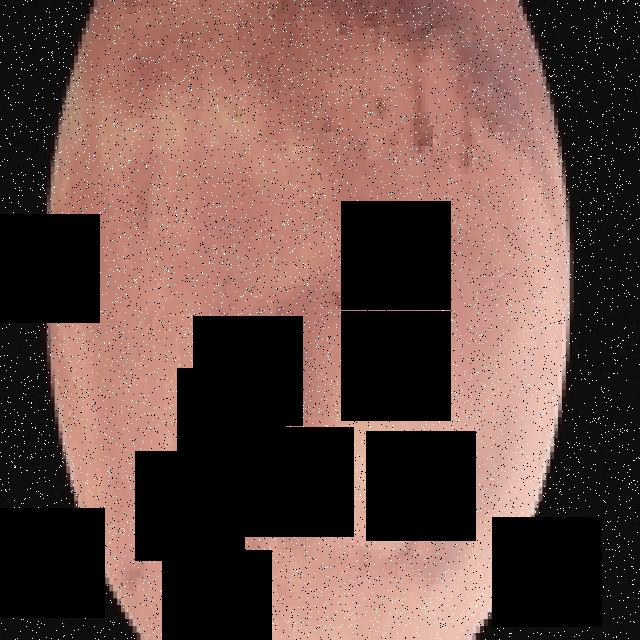Mars: (47, 0, 577, 640)
